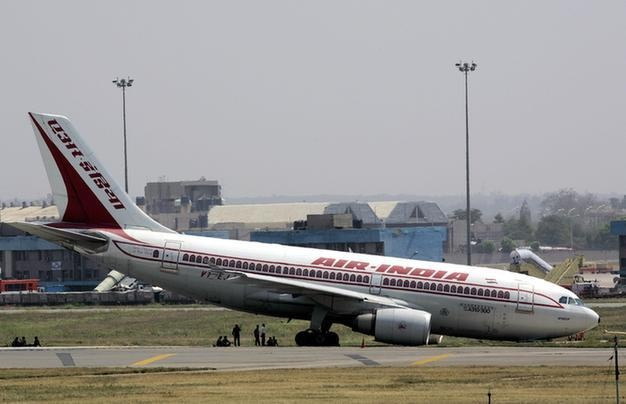airplane: (1, 107, 608, 354)
